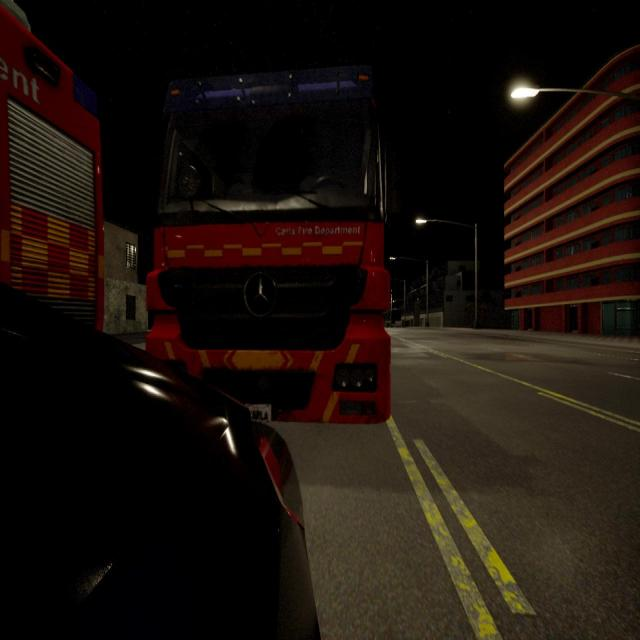Vehicle: (0, 294, 310, 637), (148, 76, 388, 419), (2, 0, 100, 330)
